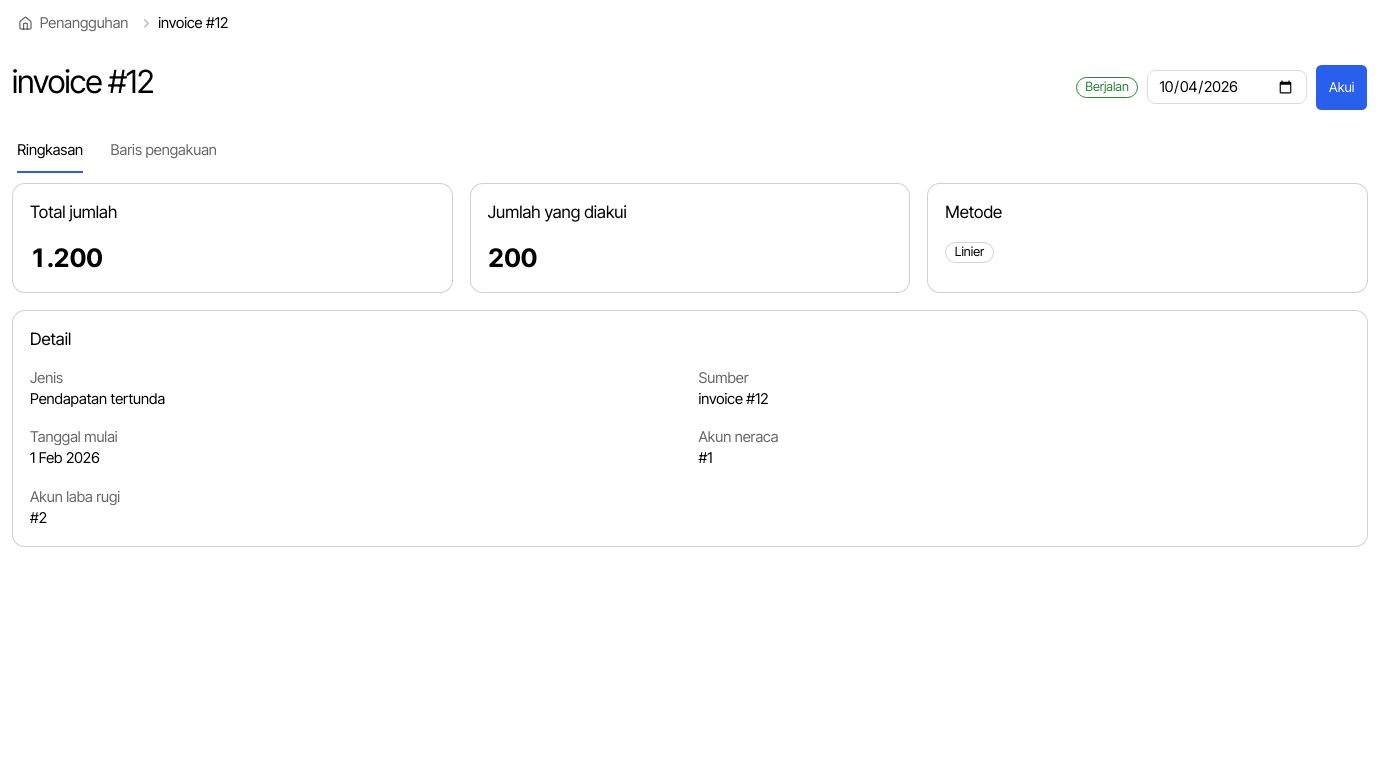
Scenario: DeferralDetail › recognizes on button click and shows seeded lines
The width and height of the screenshot is (1378, 768).
Click the button "Akui".
click(1342, 87)  # box [1315,64,1368,111]
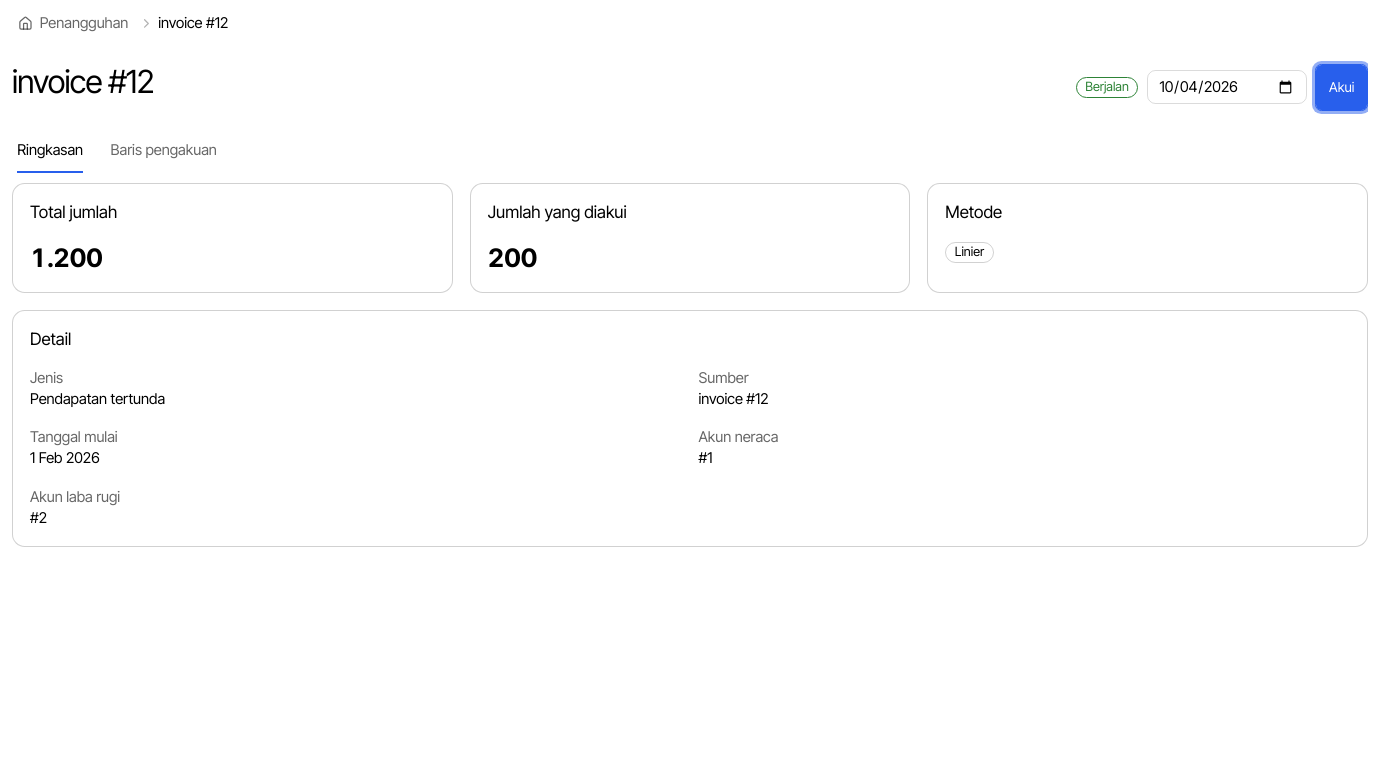
Click the tab "Baris pengakuan".
click(164, 151)  # box [110,128,218,174]
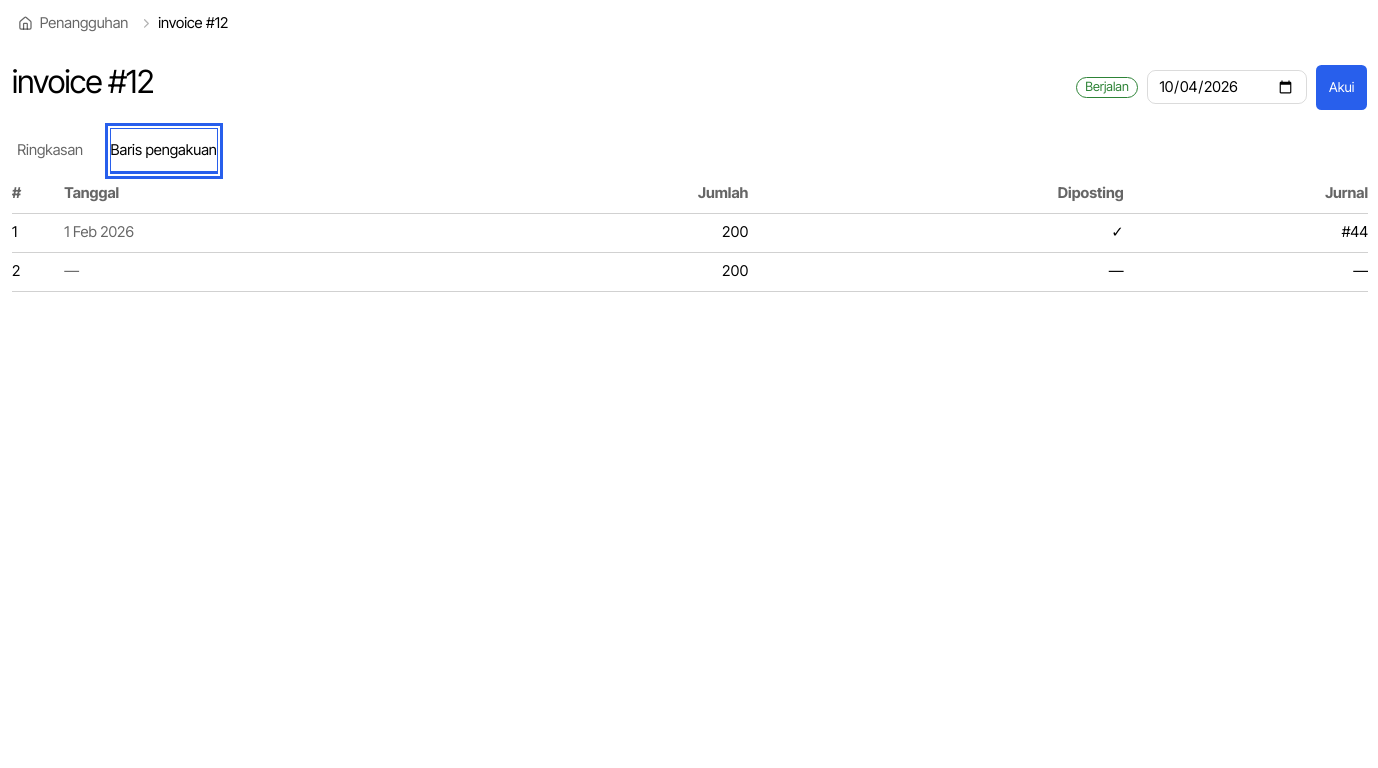
Check: the text "✓" is shown, box [748,213,1124,252]
Check: the text "#44" is shown, box [1124,213,1368,252]
